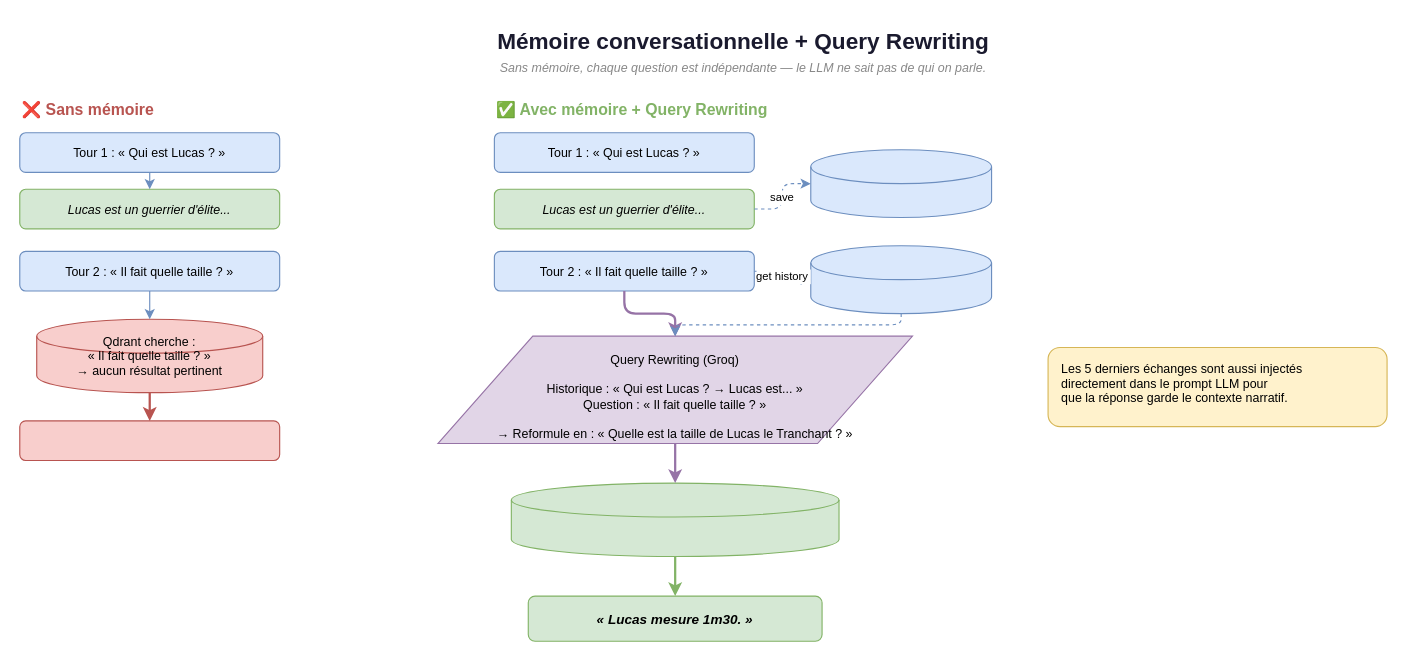
Image size: 1407x661. Some labels were removed from this diagram. The centre of each missing label's shape, as x and y in pixels:
Qdrant cherche : « Quelle est la taille de Lucas ? » → 5 passages trouvés ✅: the point at 674,519
Supabase lit les 5 derniers échanges: the point at 901,279
Supabase sauvegarde l'échange: the point at 901,183
« Je n'ai pas cette information... »: the point at 149,440
